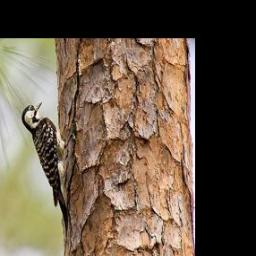Woodpecker: (21, 101, 76, 236)
